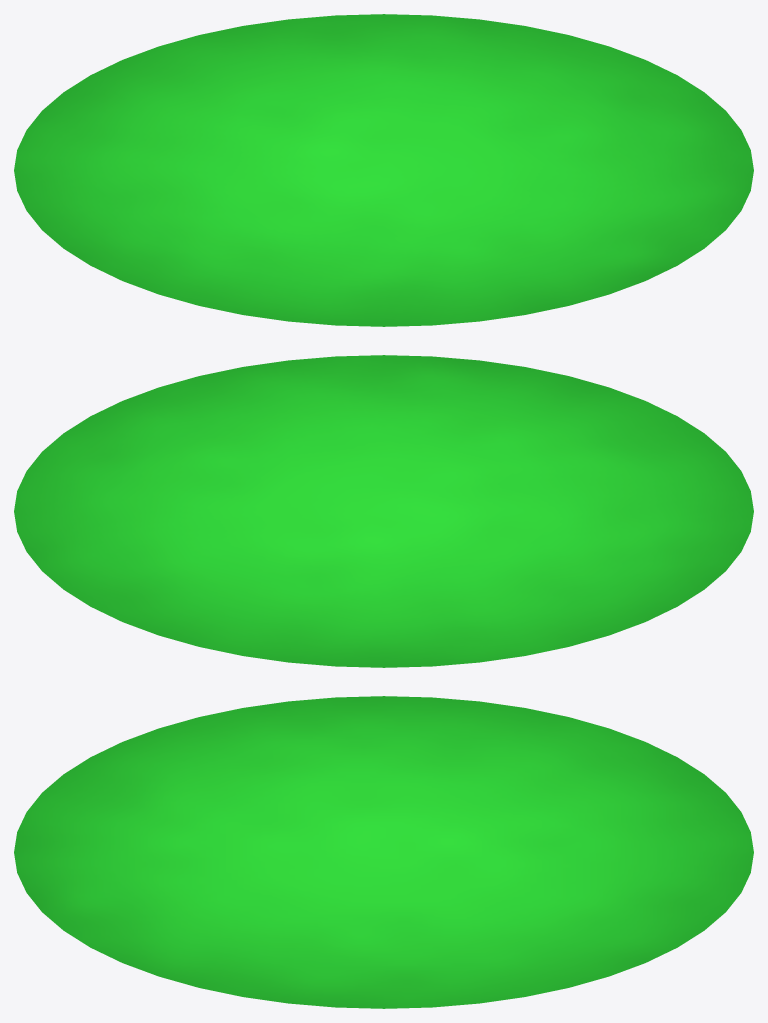
File: mm6_deco_barrel_liquid_green.glb
3 renders of one model, top to bottom at view 1: azimuth 30°, elevation 25°; view 2: azimuth 150°, elevation 25°; view 3: azimuth 270°, elevation 25°, orthographic.
Visible parts, largest first — view 1: Liquid; view 2: Liquid; view 3: Liquid.
Part boxes in pixels (x1,y1,x2,y2): Liquid: (14, 14, 753, 326); Liquid: (14, 355, 753, 667); Liquid: (14, 696, 753, 1008).
Bounding box in the file's own units: 0.529 × 0 × 0.529.
1 material, 1 textured.
